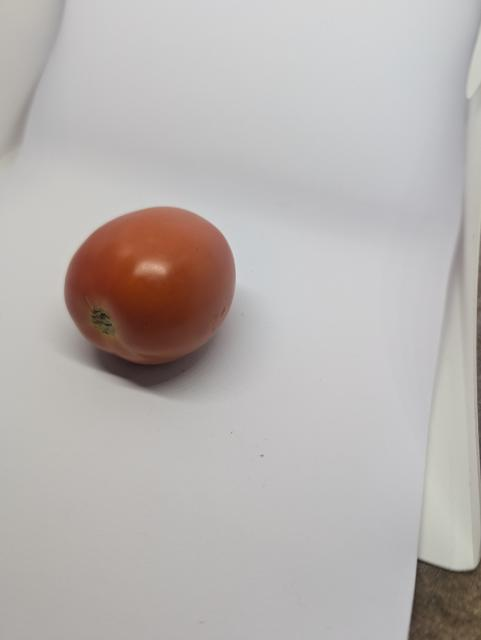red: (44, 192, 251, 383)
